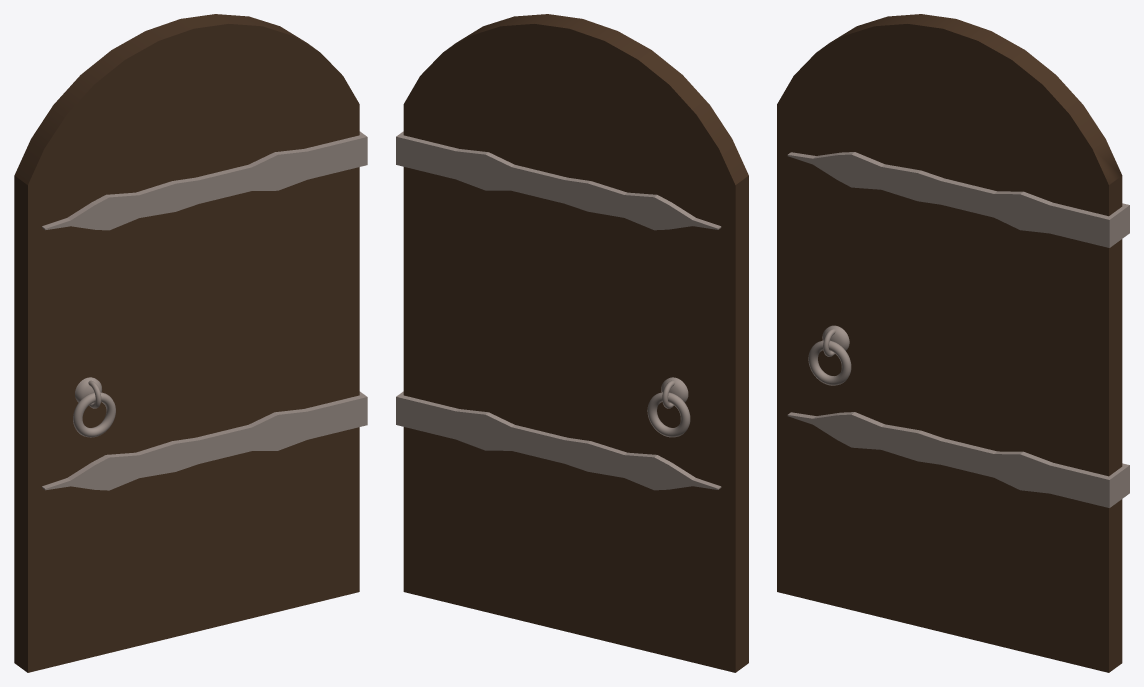
Rendered from door.gltf.
The picture shows the model from 3 angles, left to right: view 1: azimuth 30°, elevation 25°; view 2: azimuth 150°, elevation 25°; view 3: azimuth 330°, elevation 25°; orthographic projection.
Parts seen in each view (by area): view 1: Door, Door.002; view 2: Door, Door.002; view 3: Door, Door.002.
Boxes of the visible parts, left/top/right/bottom form: Door: left=14, top=14, right=359, bottom=672; Door.002: left=42, top=131, right=367, bottom=490; Door: left=403, top=14, right=748, bottom=672; Door.002: left=396, top=131, right=721, bottom=490; Door: left=777, top=14, right=1122, bottom=672; Door.002: left=787, top=152, right=1129, bottom=507.
Bounding box in the file's own units: 1.35 × 2.32 × 0.2637.
